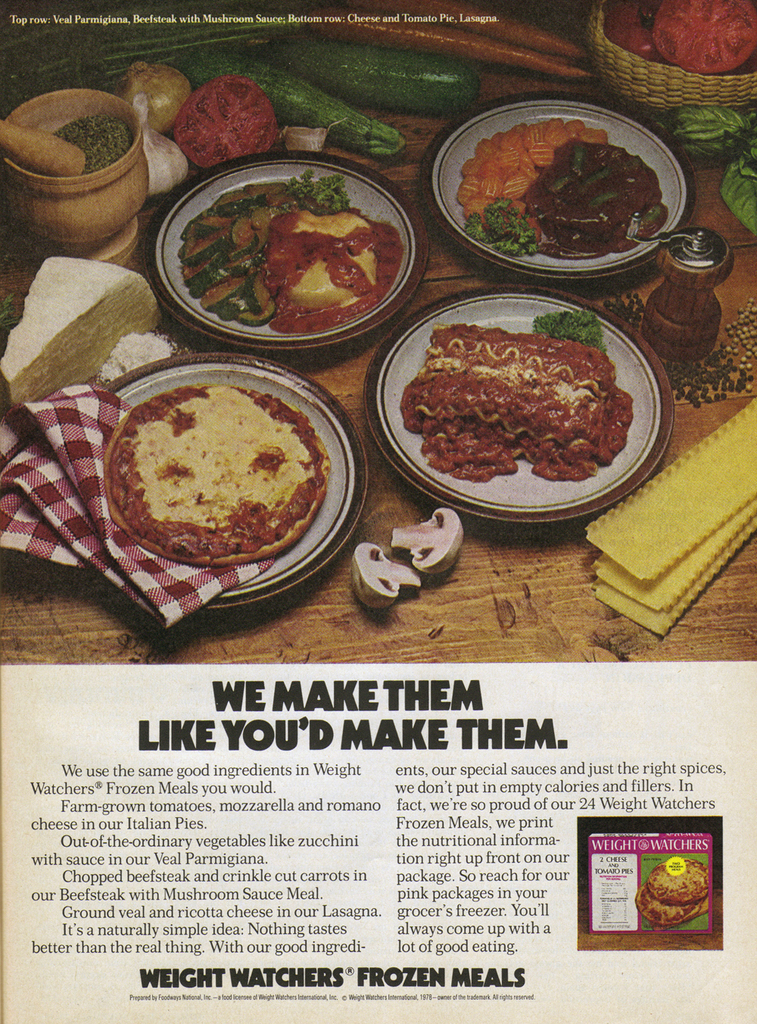Pizza: (96, 361, 333, 568)
